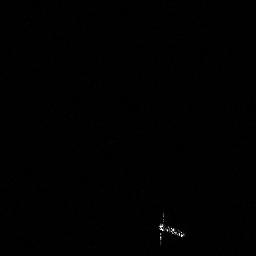ship: (153, 209, 188, 247)
